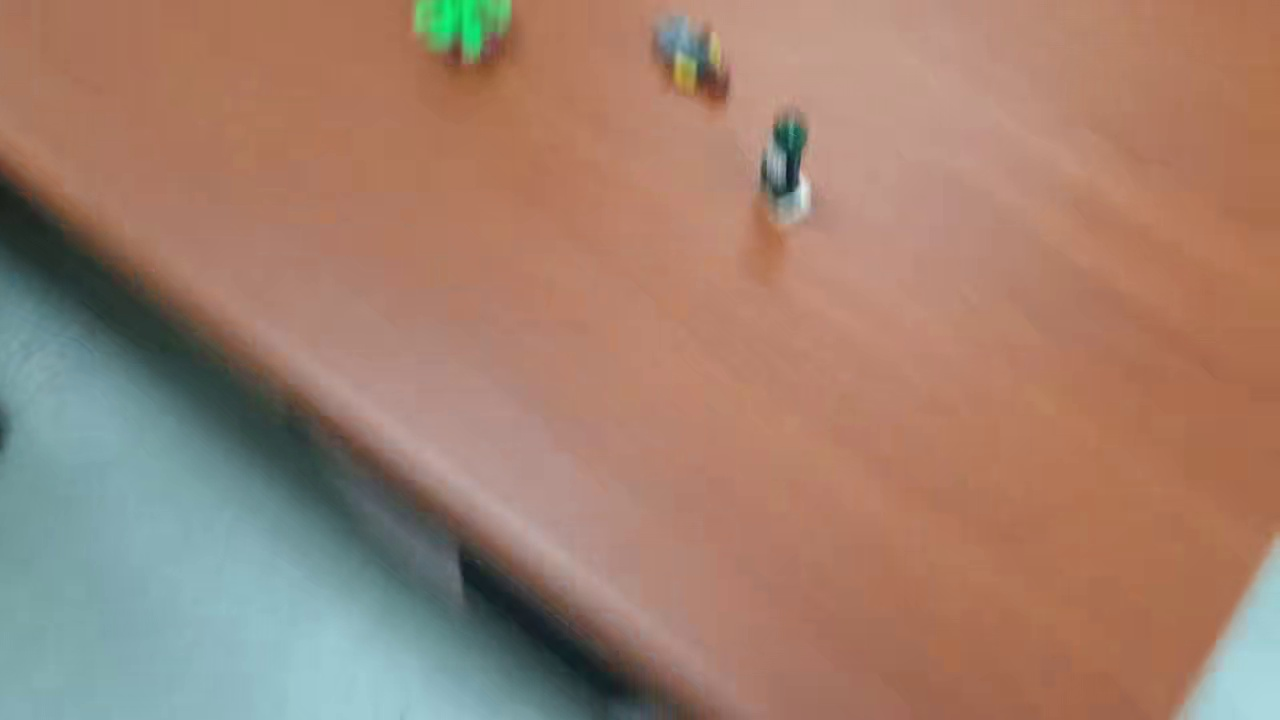people: (644, 9, 734, 108), (756, 108, 815, 231)
tree: (413, 1, 517, 74)
